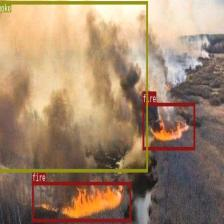fire: (32, 182, 130, 222), (142, 102, 195, 150)
smoke: (0, 0, 147, 171)
